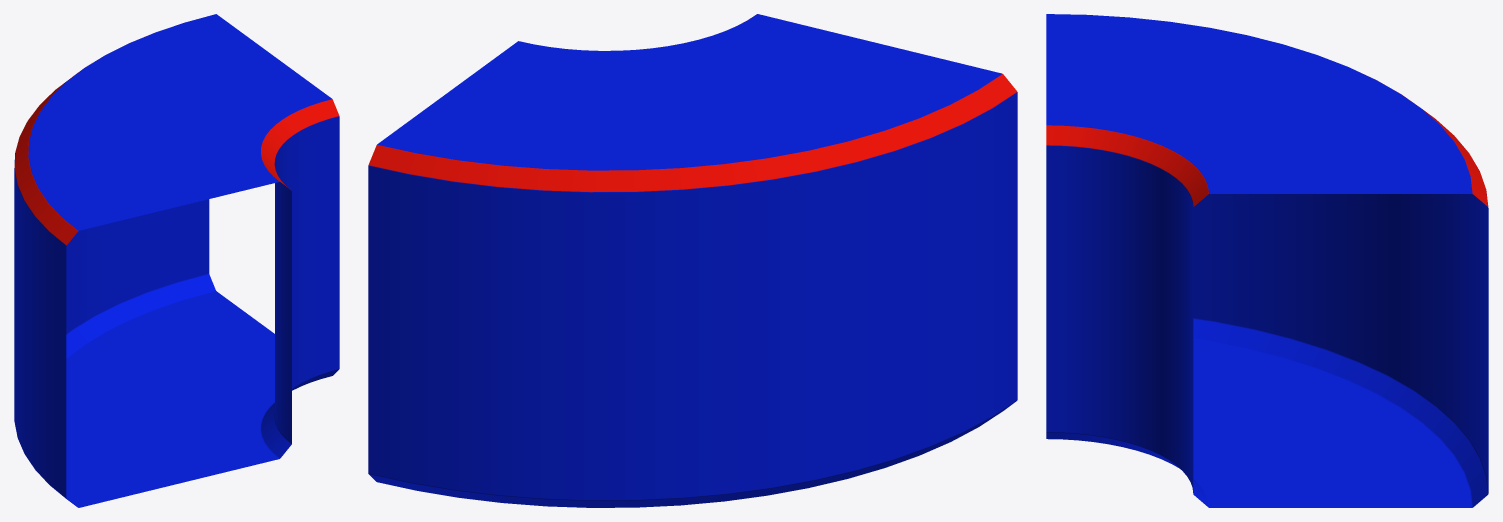
The model's file is LRight.fbx.
3 renders of one model, left to right at view 1: azimuth 30°, elevation 25°; view 2: azimuth 150°, elevation 25°; view 3: azimuth 270°, elevation 25°, orthographic. The views are drawn at different scales.
Parts seen in each view (by area): view 1: LLeft; view 2: LLeft; view 3: LLeft.
Part boxes in pixels (x1,y1,x2,y2): LLeft: (14, 14, 339, 507); LLeft: (368, 14, 1017, 507); LLeft: (1046, 14, 1488, 507).
Size of the model in its own units: 300 by 235 by 300.
